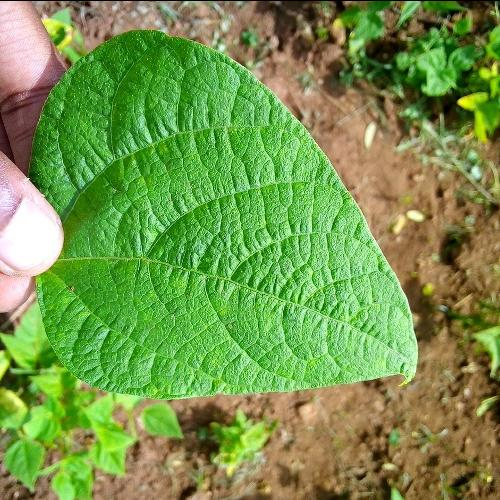mozaik: (76, 92, 248, 357)
